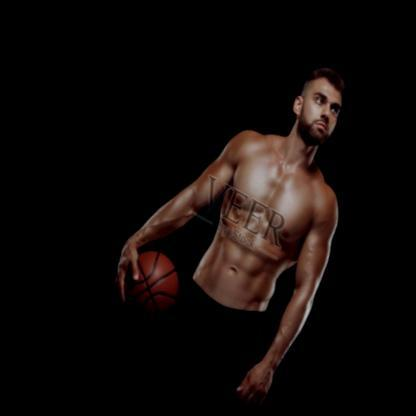basketball: (94, 239, 189, 338)
